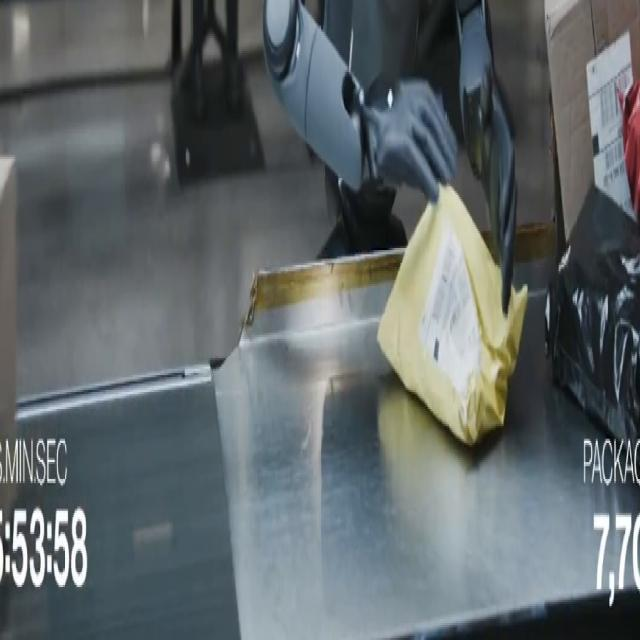package: (378, 187, 527, 445), (546, 187, 639, 442), (545, 0, 639, 237), (0, 157, 17, 453), (622, 83, 639, 220)
